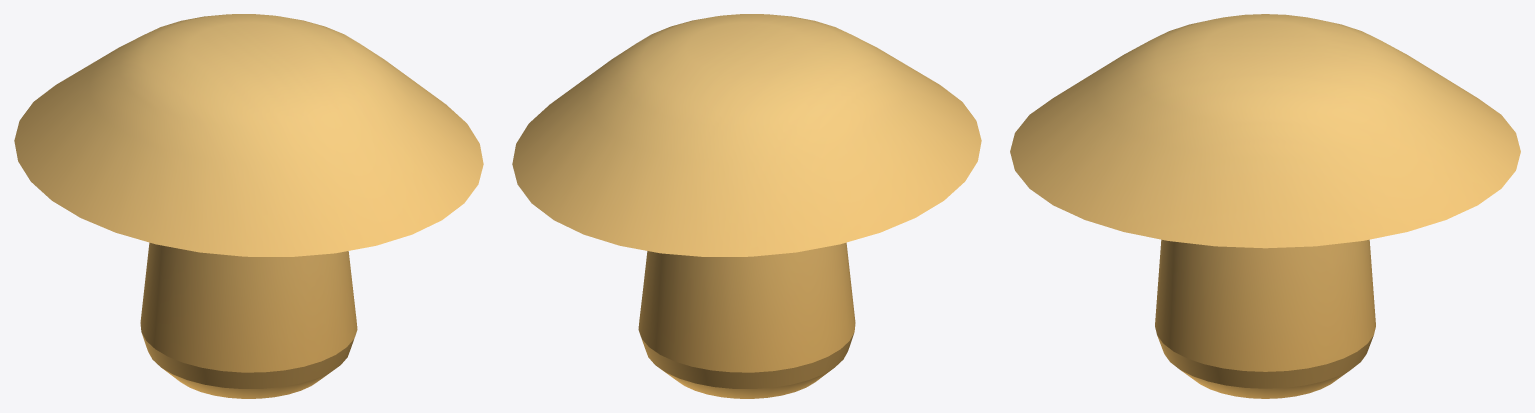
Rendered from mushroom.fbx.
3 renders of one model, left to right at view 1: azimuth 30°, elevation 25°; view 2: azimuth 150°, elevation 25°; view 3: azimuth 270°, elevation 25°, orthographic.
Parts seen in each view (by area): view 1: mushroomlamp; view 2: mushroomlamp; view 3: mushroomlamp.
Part boxes in pixels (left/top/right/bottom): mushroomlamp: left=14, top=14, right=483, bottom=398; mushroomlamp: left=512, top=14, right=981, bottom=398; mushroomlamp: left=1010, top=14, right=1520, bottom=398.
Bounding box in the file's own units: 143 × 110 × 160.
